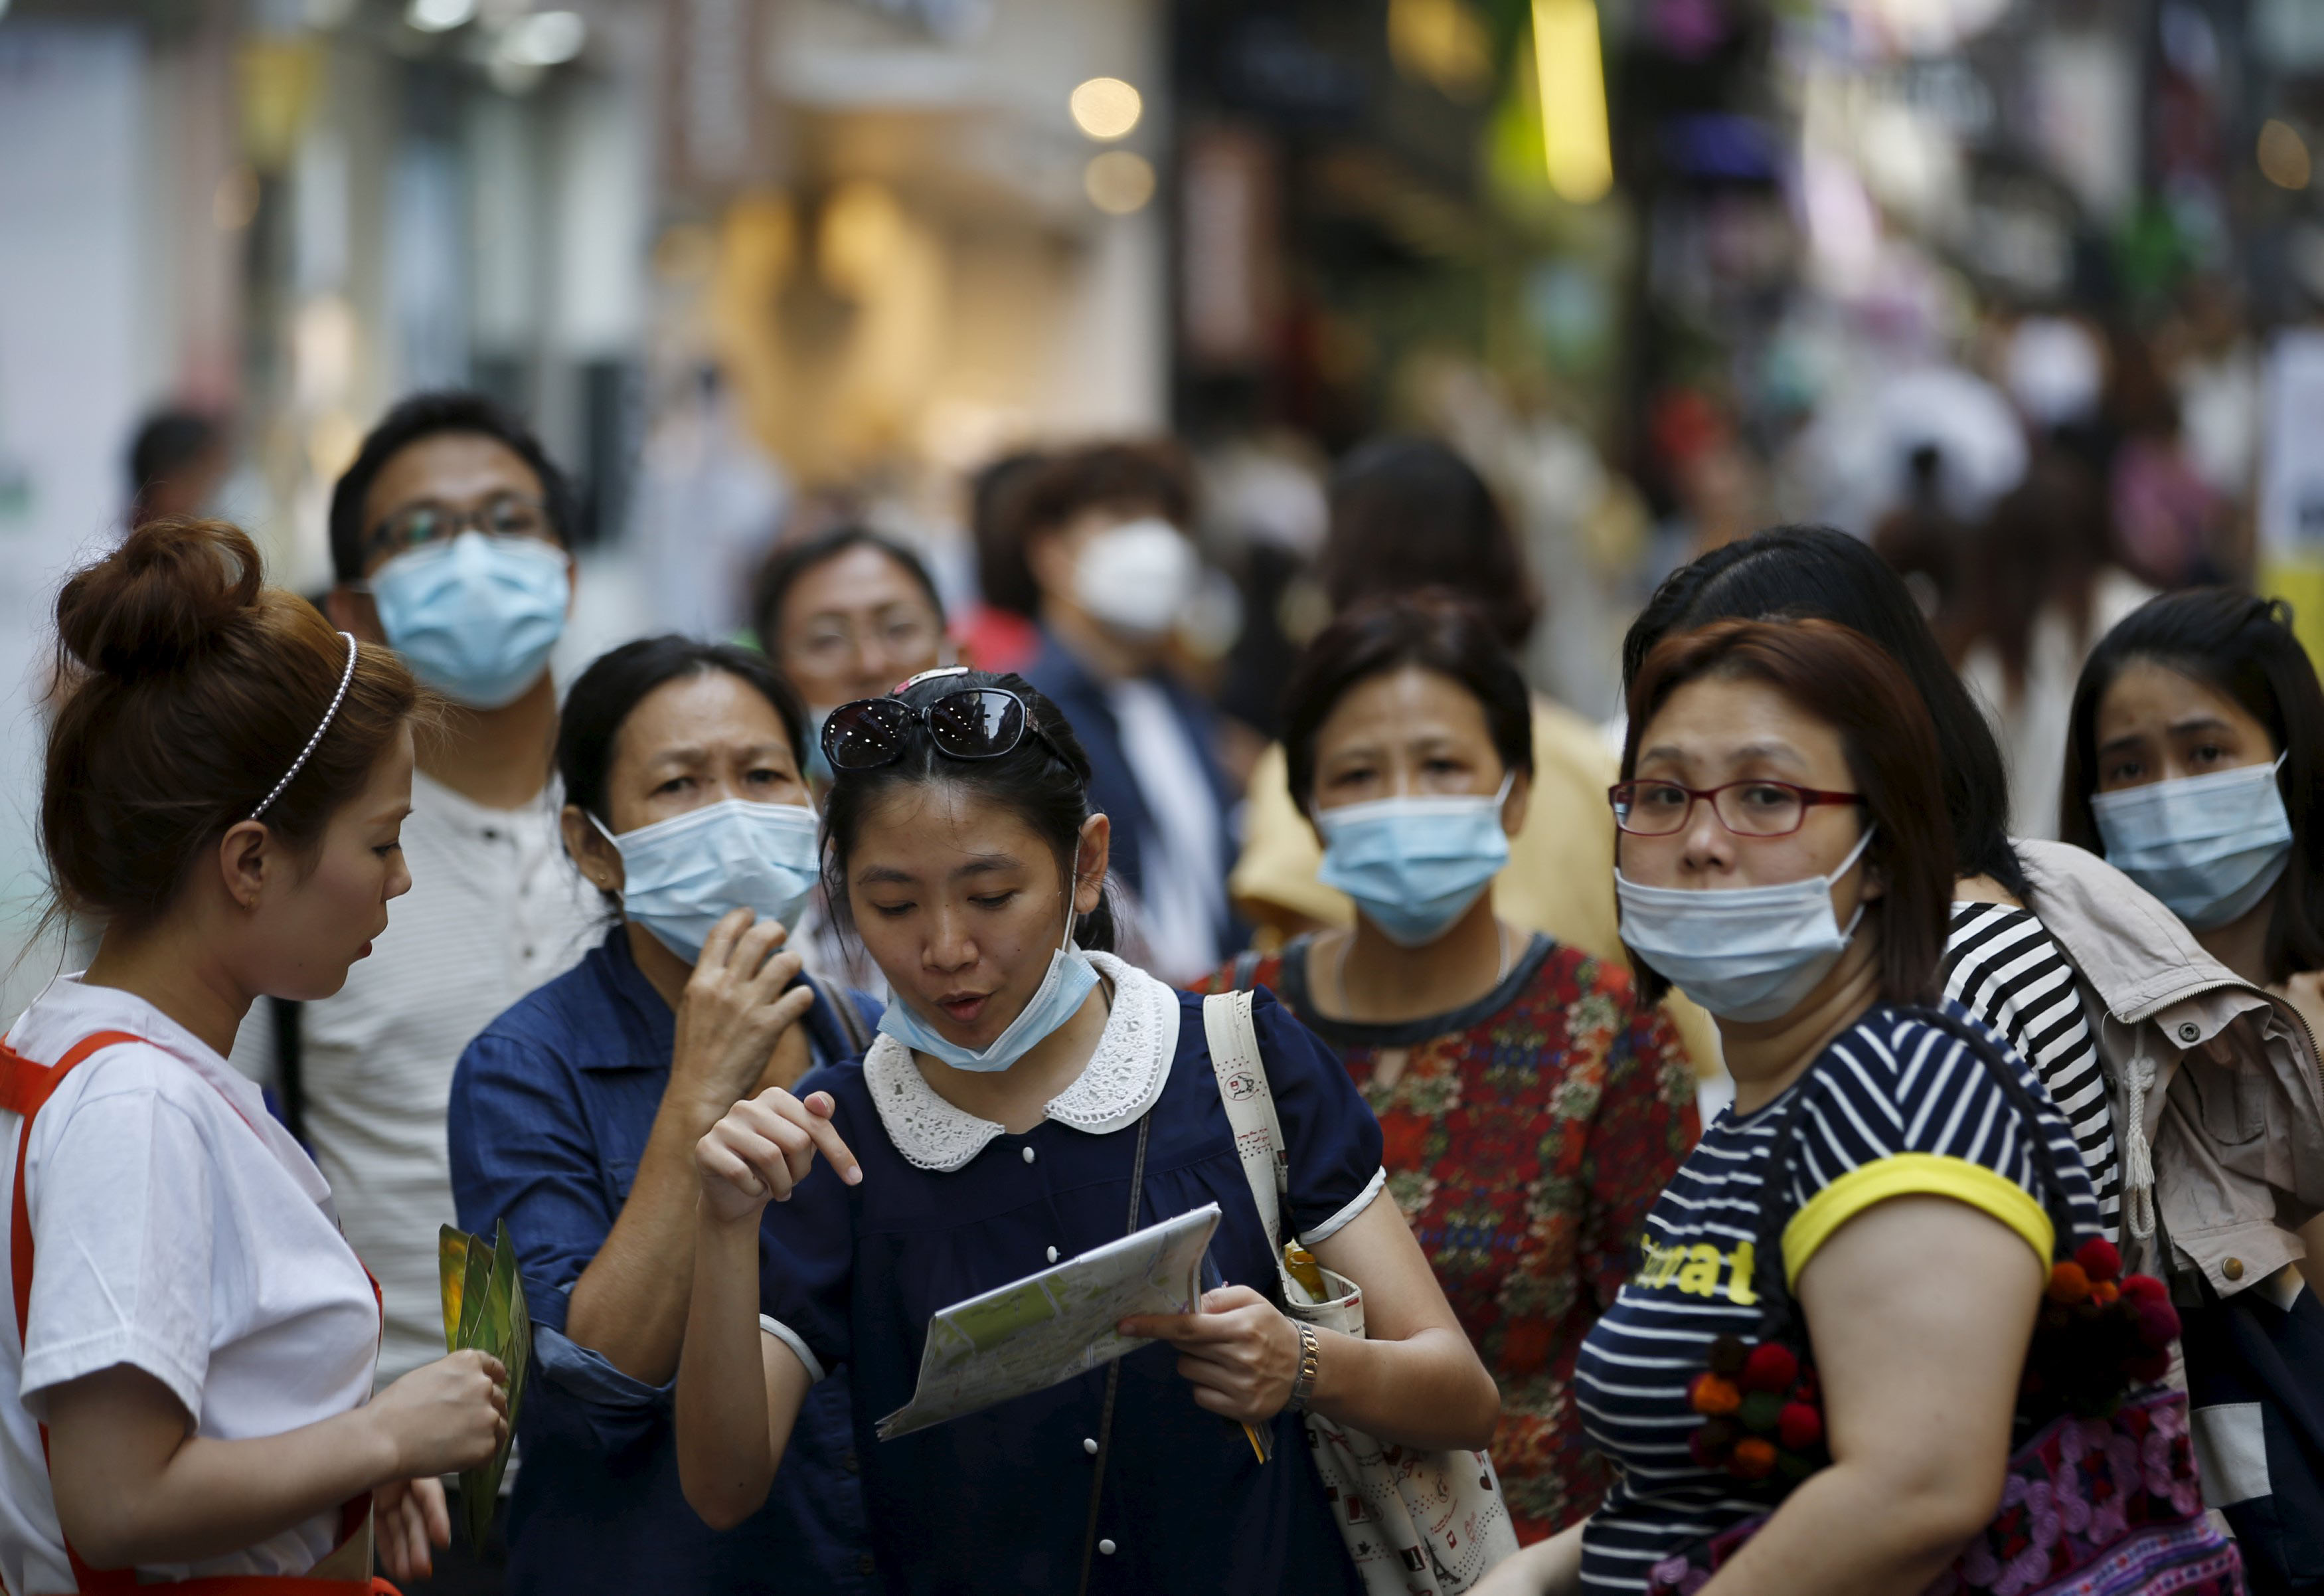mask: (1611, 879, 1849, 1019), (2100, 770, 2292, 932), (627, 812, 826, 955)
